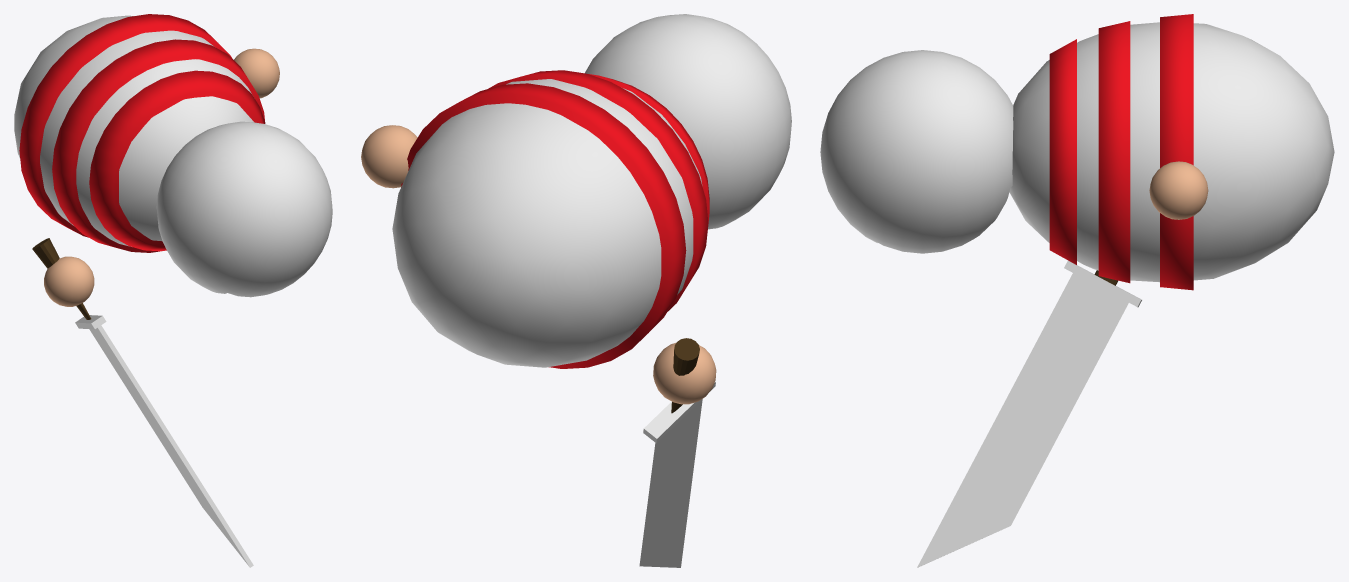
Rendered from knight_red_attack.glb.
3 views of the same model, side by side, from view 1: azimuth 30°, elevation 25°; view 2: azimuth 150°, elevation 25°; view 3: azimuth 270°, elevation 25° (orthographic). The views are drawn at different scales.
Visible parts, largest first — view 1: Sphere, Icosphere, Cylinder.002, Cylinder.001, Cylinder, Cylinder.015, Icosphere.003, Icosphere.004; view 2: Icosphere, Sphere, Cylinder, Cylinder.015, Cylinder.001, Icosphere.004, Icosphere.003, Cylinder.002; view 3: Icosphere, Sphere, Cylinder.015, Cylinder.001, Cylinder, Cylinder.002, Icosphere.004.
Part boxes in pixels (x1,y1,x2,y2): Sphere: (156,121,332,297); Icosphere: (14,15,254,246); Cylinder.002: (89,70,265,251); Cylinder.001: (52,39,264,252); Cylinder: (19,14,232,237); Cylinder.015: (32,238,253,567); Icosphere.003: (44,256,94,306); Icosphere.004: (234,48,279,98); Icosphere: (392,79,702,367); Sphere: (585,14,791,229); Cylinder: (401,83,686,368); Cylinder.015: (639,338,715,567); Cylinder.001: (488,70,708,311); Icosphere.004: (361,125,417,188); Icosphere.003: (653,342,716,404); Cylinder.002: (588,74,709,226); Icosphere: (1009,22,1334,282); Sphere: (820,50,1013,253); Cylinder.015: (917,260,1141,567); Cylinder.001: (1098,21,1130,283); Cylinder: (1160,14,1193,290); Cylinder.002: (1049,39,1076,264); Icosphere.004: (1149,161,1208,219).
Size of the model in its own units: 0.4085 by 0.7111 by 0.6157.
